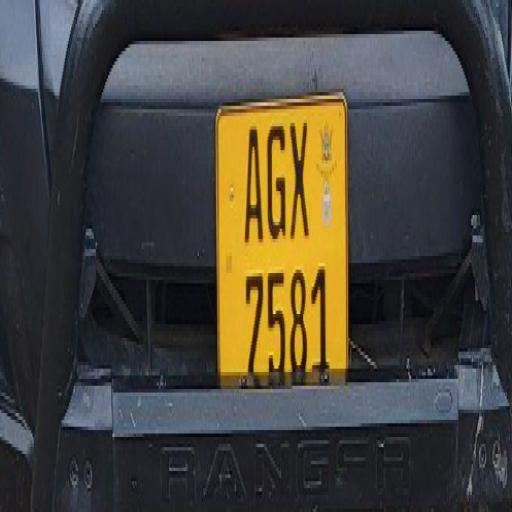number-plates: (218, 114, 337, 395)
